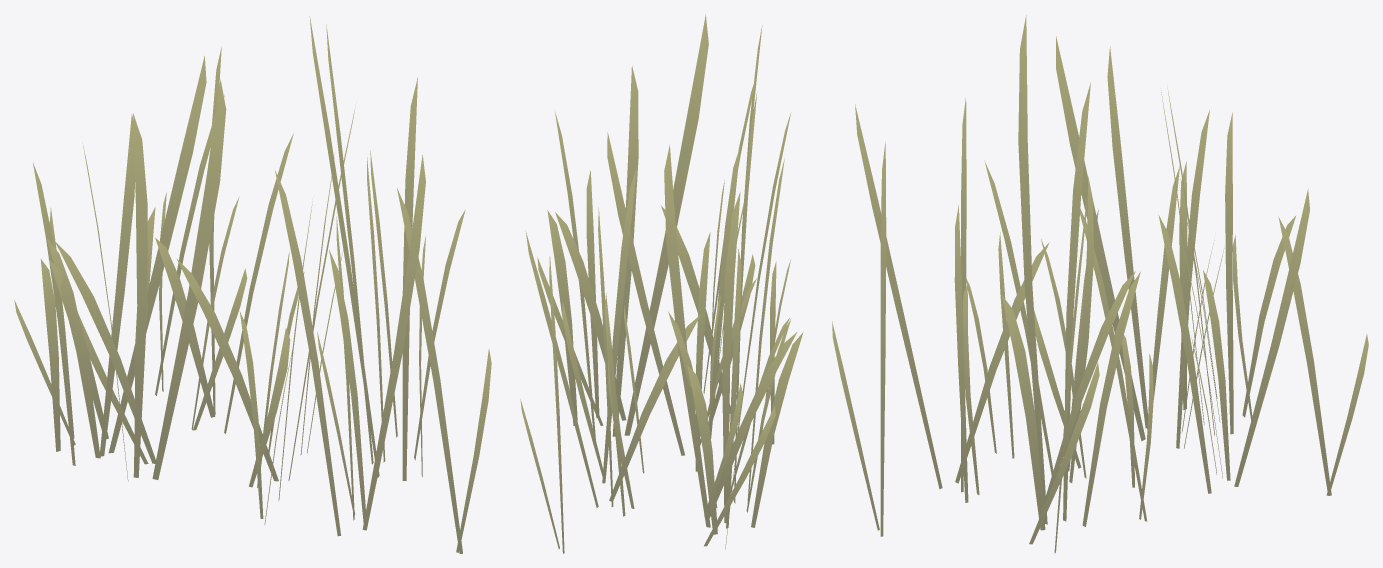
File: SM_detail_grassM_D_LOD0.FBX
3 views of the same model, side by side, from view 1: azimuth 30°, elevation 25°; view 2: azimuth 150°, elevation 25°; view 3: azimuth 270°, elevation 25° (orthographic). The views are drawn at different scales.
Parts seen in each view (by area): view 1: SM_detail_grassM_D_LOD0; view 2: SM_detail_grassM_D_LOD0; view 3: SM_detail_grassM_D_LOD0.
Part boxes in pixels (<box>): SM_detail_grassM_D_LOD0: <box>14,16,491,553</box>; SM_detail_grassM_D_LOD0: <box>520,14,803,553</box>; SM_detail_grassM_D_LOD0: <box>832,15,1368,553</box>.
Bounding box in the file's own units: 141 × 199 × 198.
Materials: 1 (1 with a texture image).
